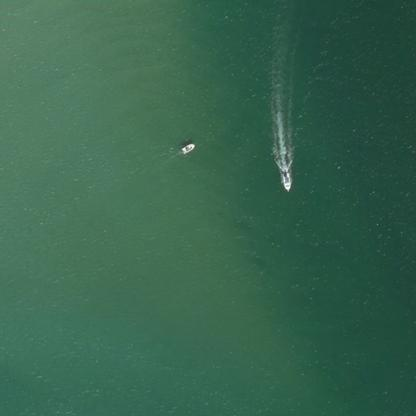ship: (273, 159, 298, 197), (176, 138, 198, 157)
